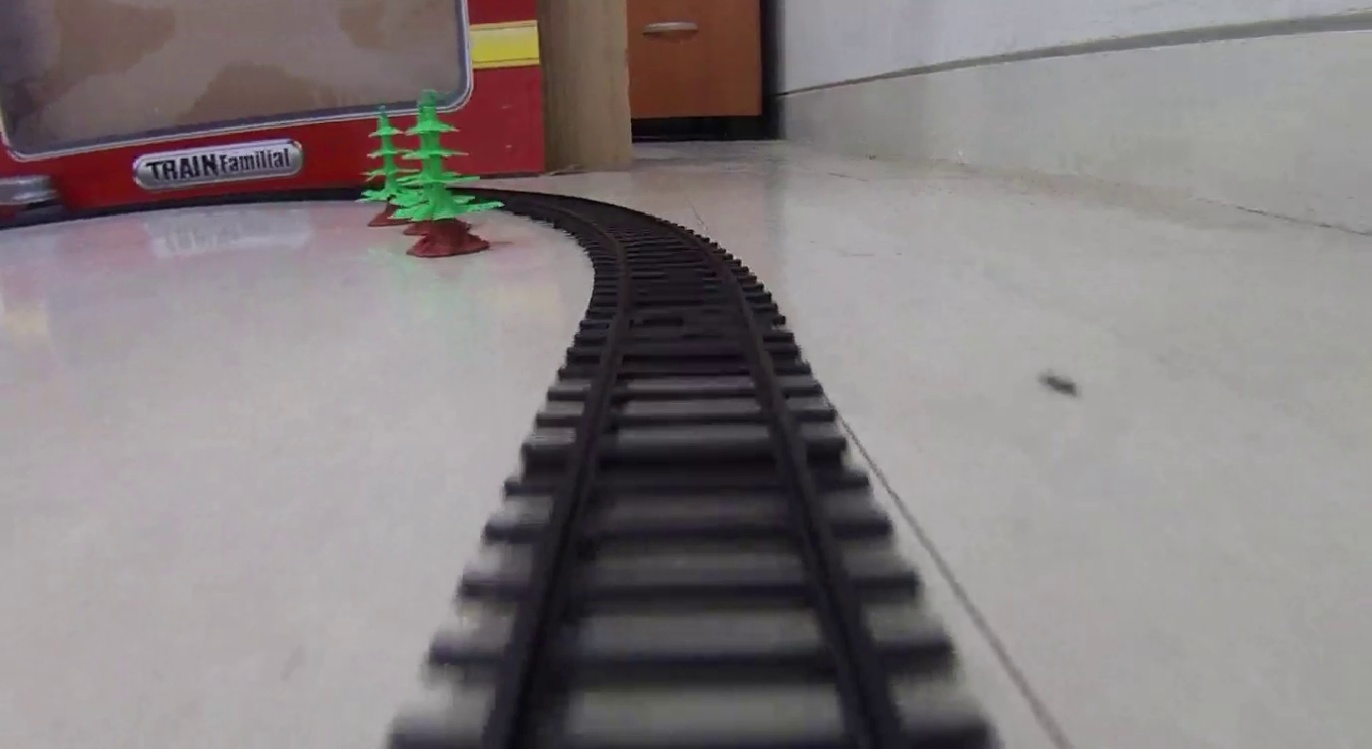tree: (405, 92, 481, 255)
